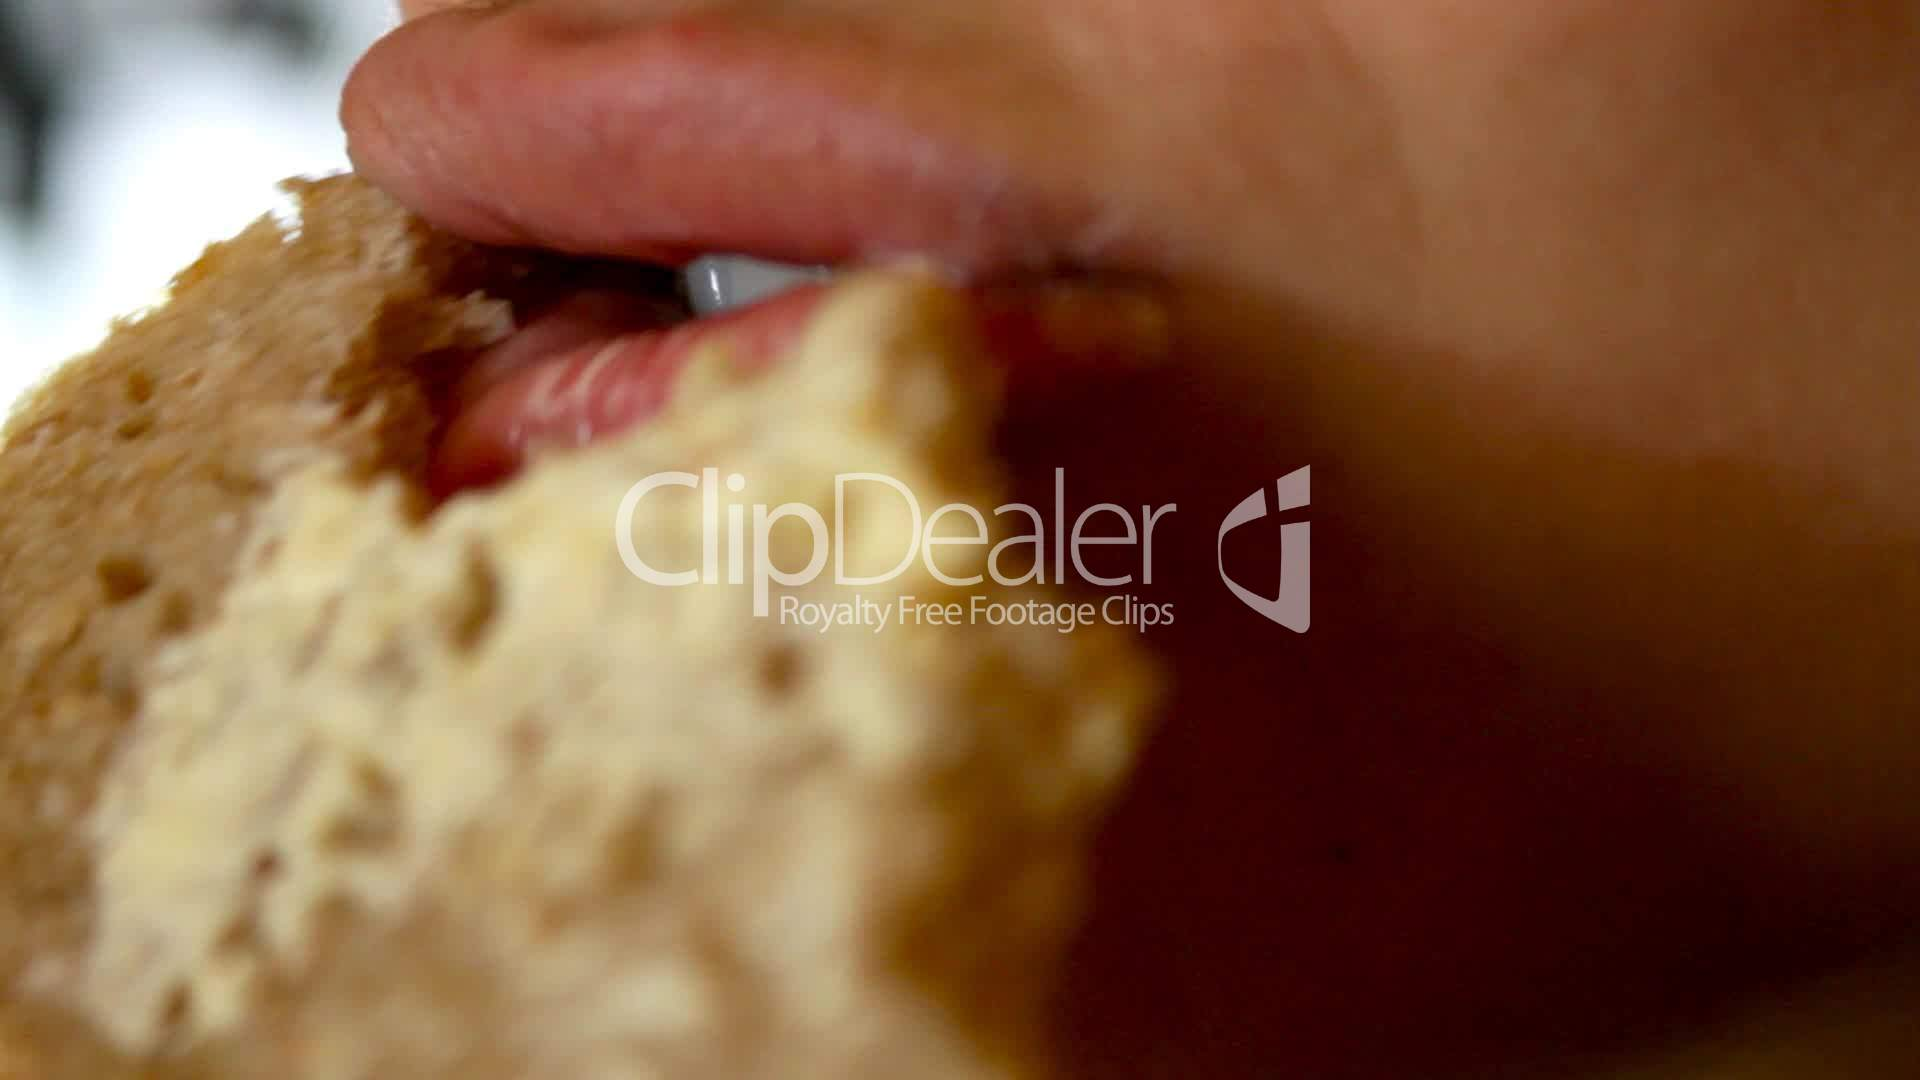slice of bread: (13, 225, 1039, 1080)
